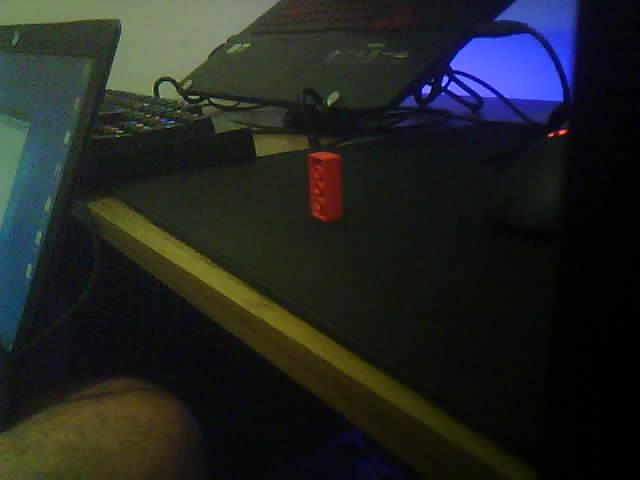lego: (307, 151, 346, 222)
